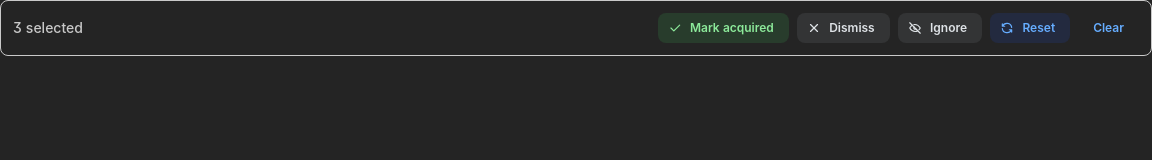
Test: ReleasesBulkActionBar › explains Mark acquired on hover
Hover over the button "Mark acquired".
mouse_move(723, 28)  # box [658,13,789,43]
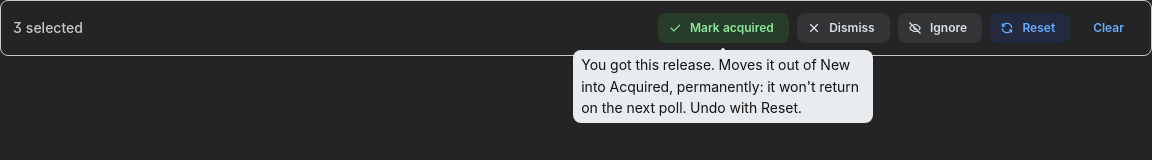
Now the tooltip "You got this release. Moves it out of New into Acquired, permanently: it won't return on the next poll. Undo with Reset." is shown, box [581,56,859,116]
